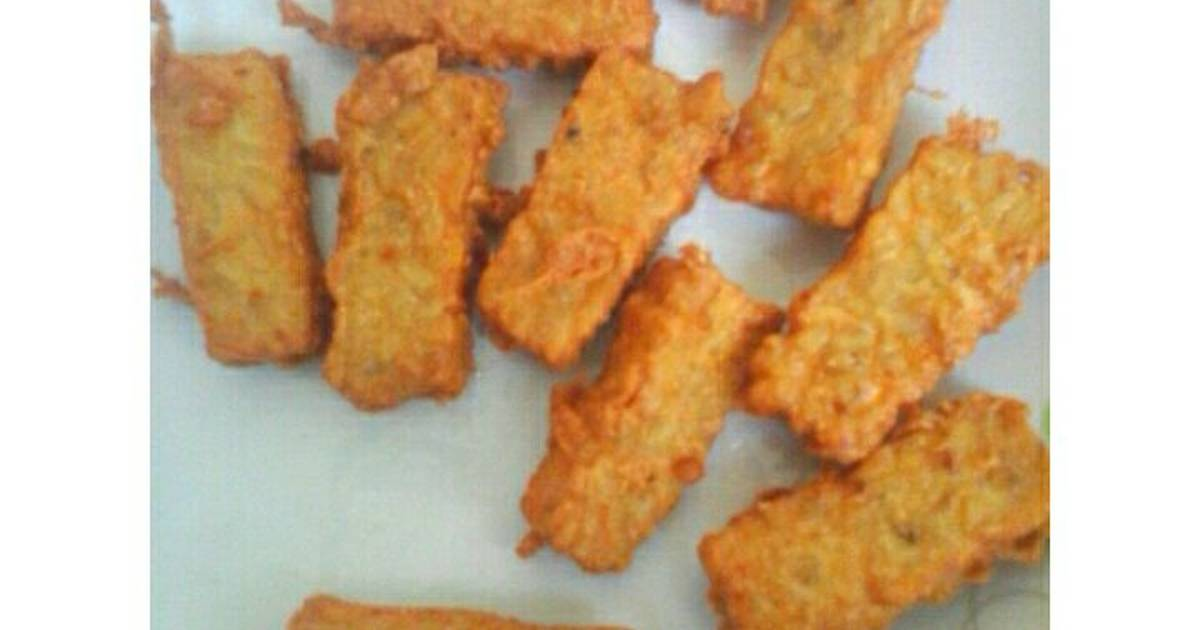Tempe: (755, 110, 1047, 435), (527, 241, 781, 556), (731, 394, 1047, 630), (325, 59, 502, 419), (495, 86, 720, 330), (176, 66, 316, 434), (685, 8, 929, 215)
